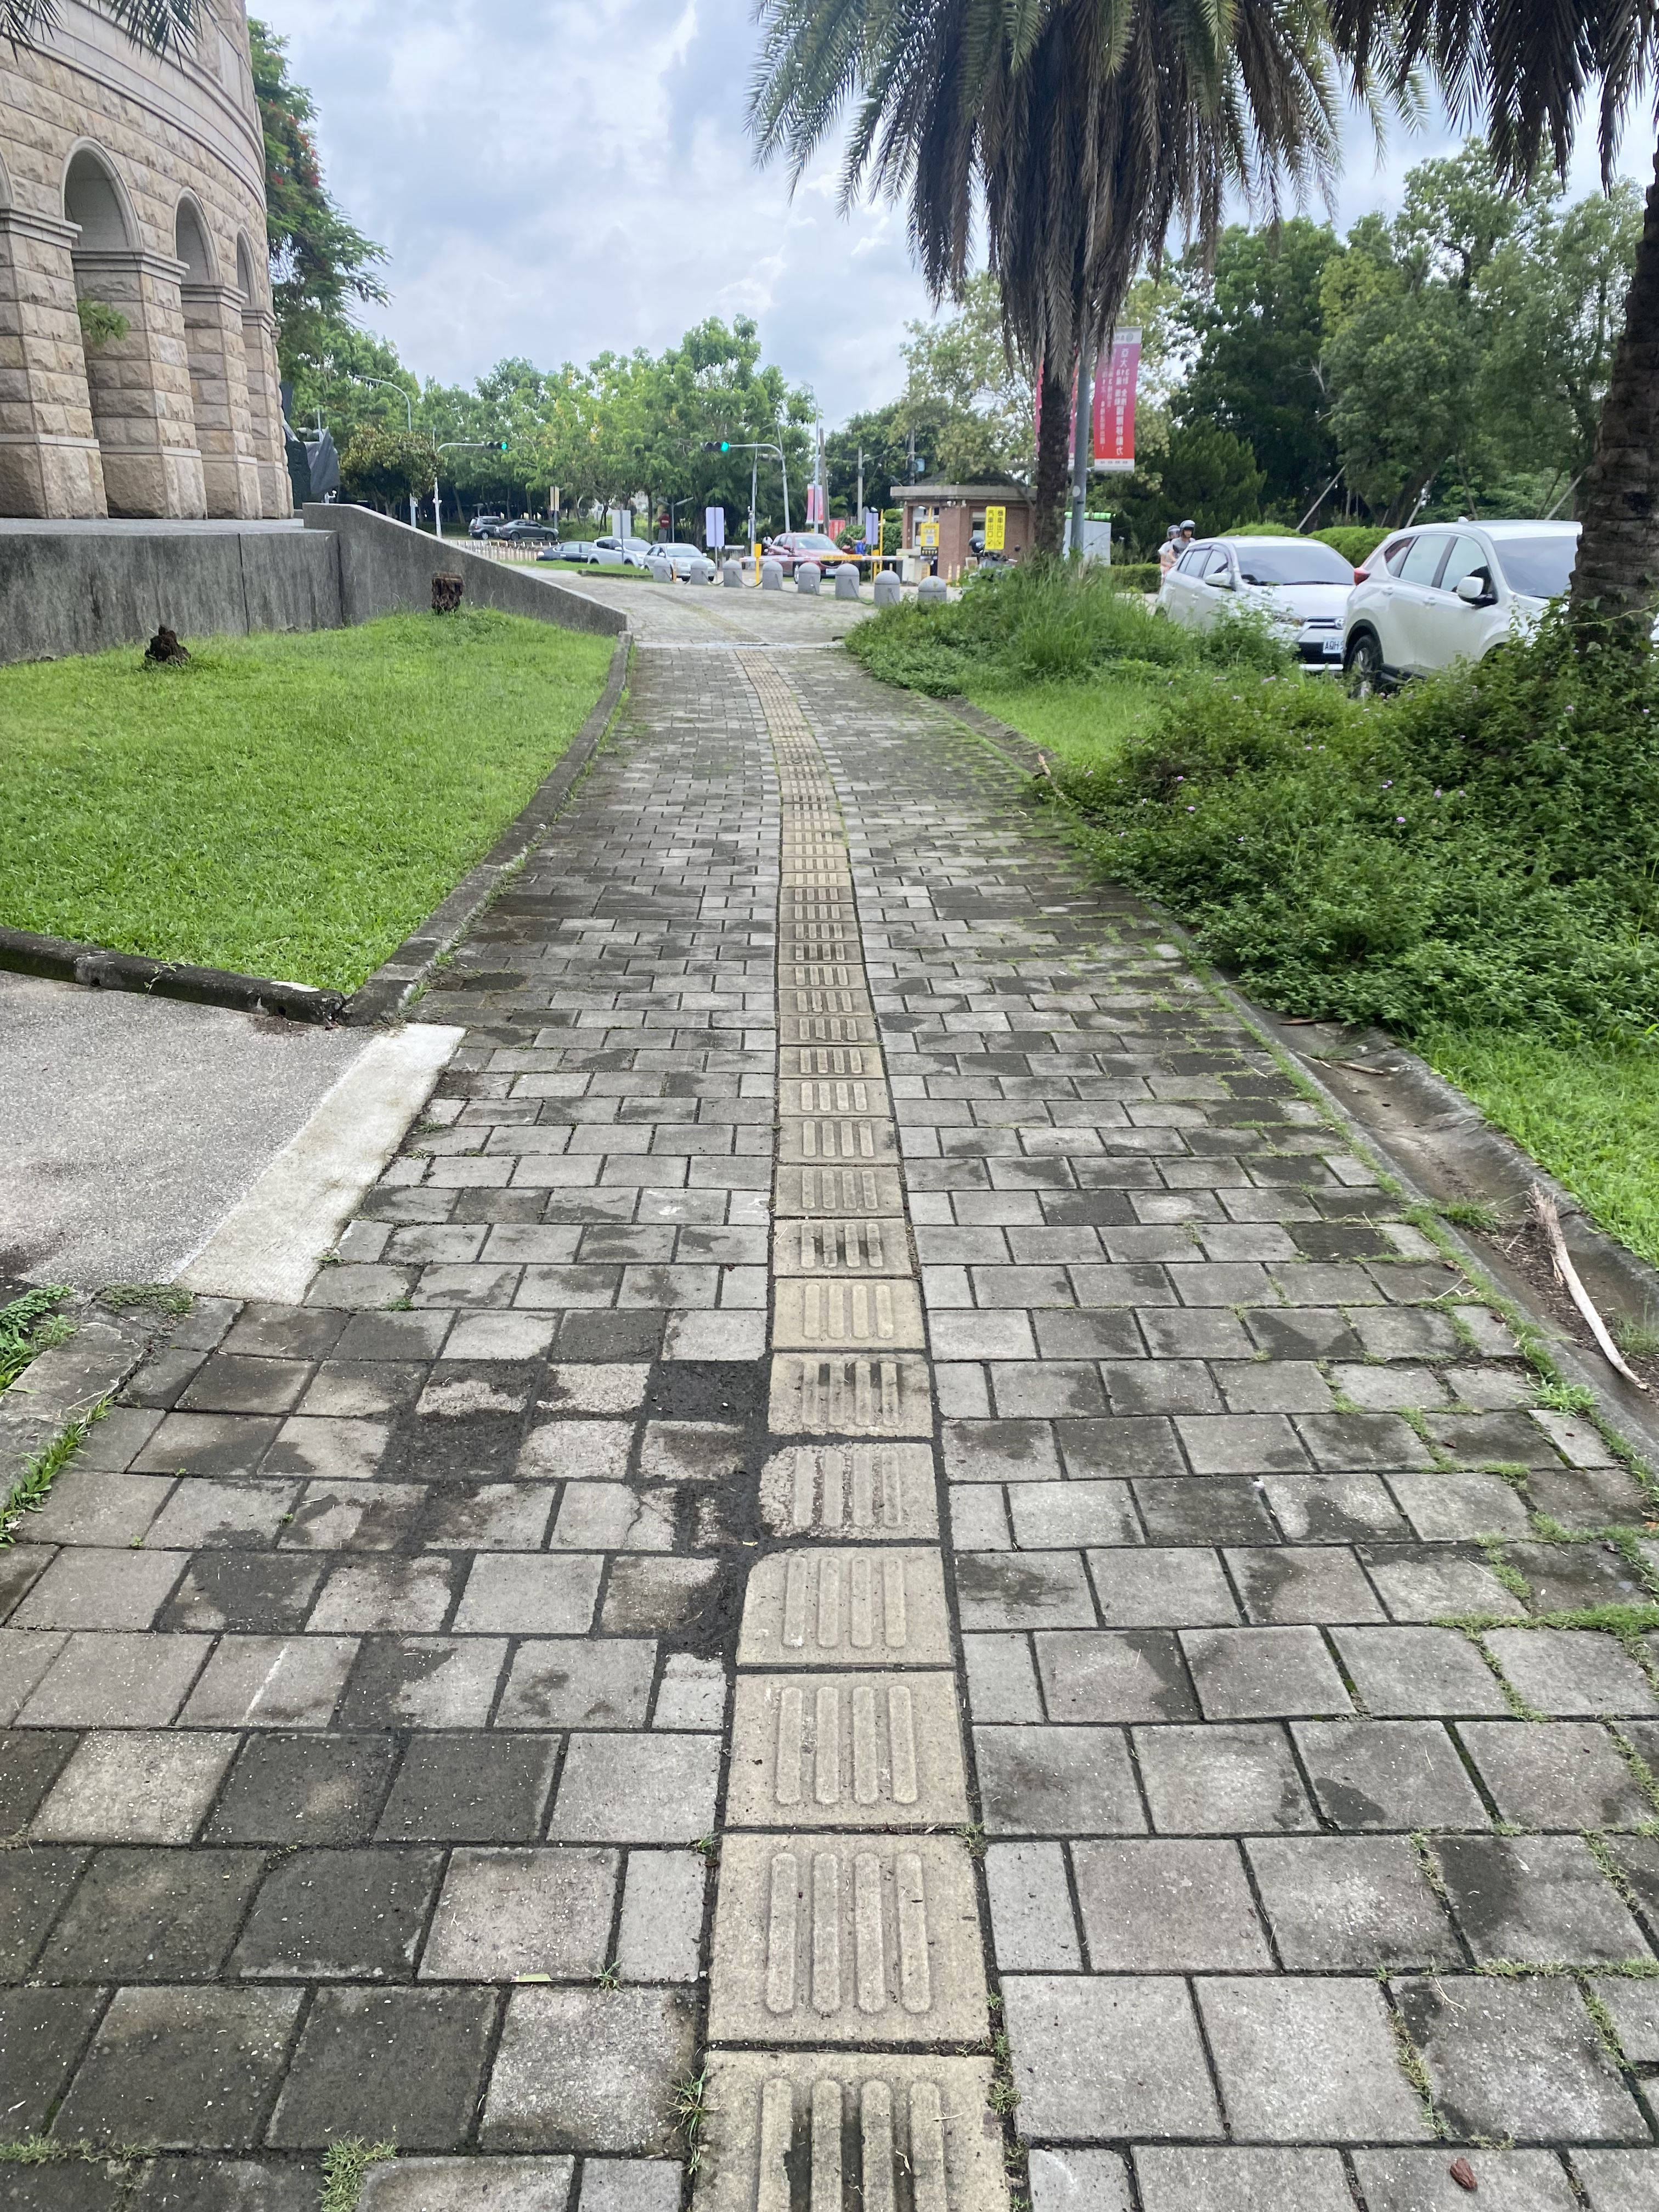0: (3, 853, 1659, 2212)
sidewalk: (532, 557, 1208, 1540)
